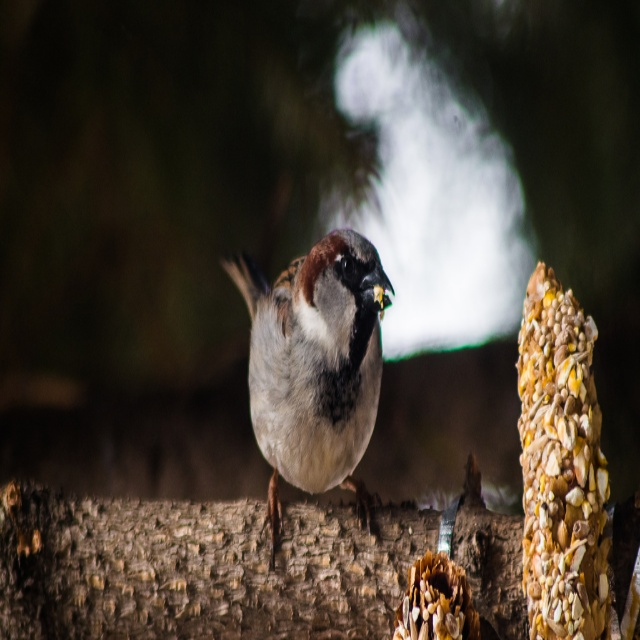Sparrow: (221, 222, 401, 522)
